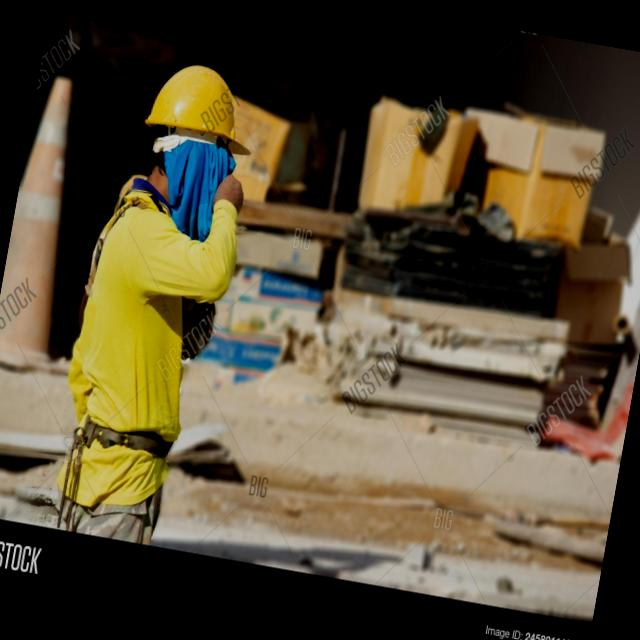helmet: (141, 60, 266, 170)
vest: (60, 164, 225, 464)
